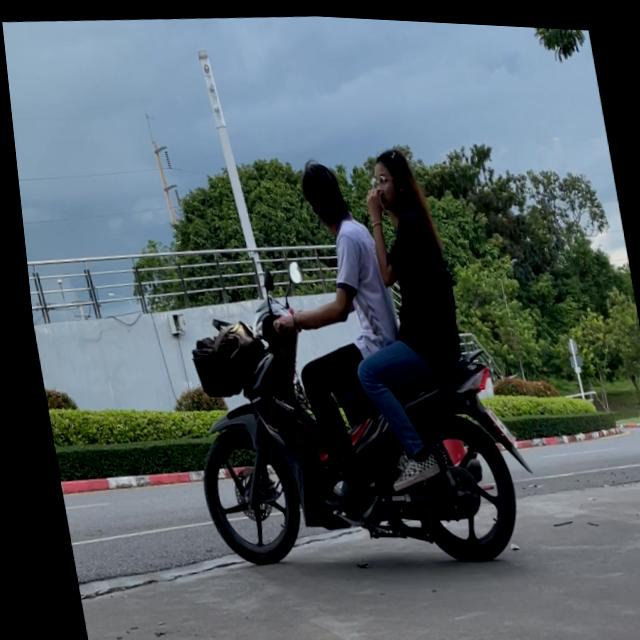seatbelt: (291, 155, 346, 228), (361, 142, 414, 211)
